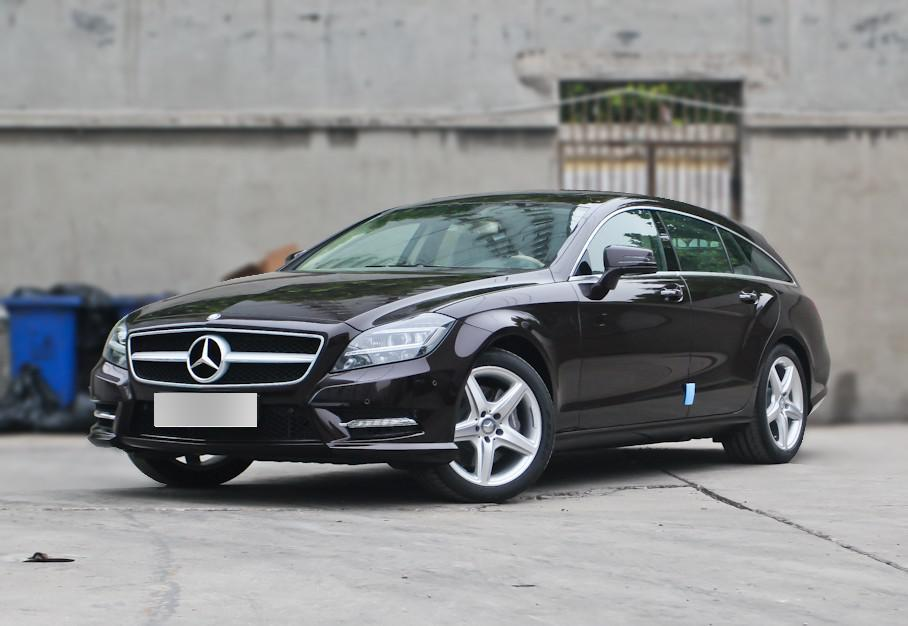Wagon: (86, 188, 832, 501)
